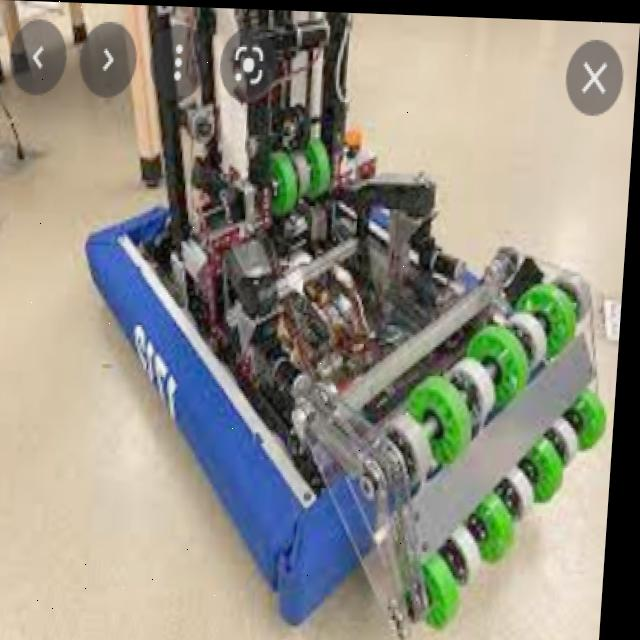robot: (67, 7, 630, 629)
